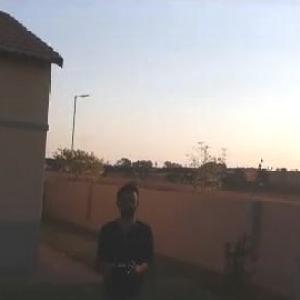follow: (88, 179, 160, 299)
